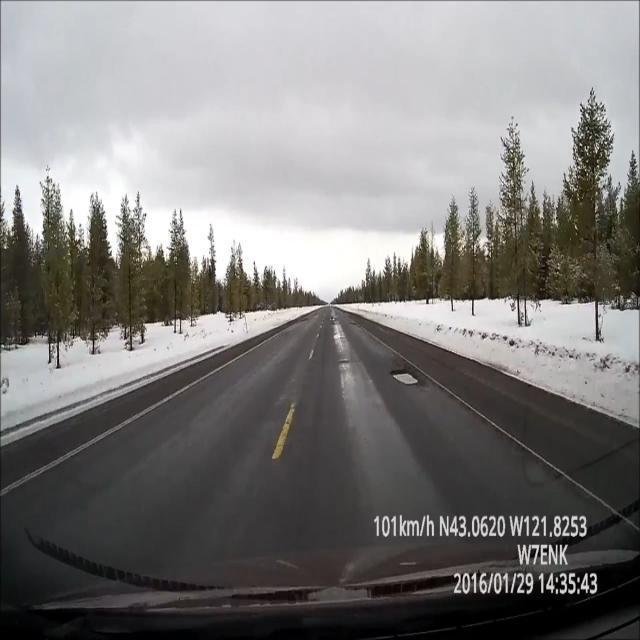Pothole: (390, 369, 425, 386)
